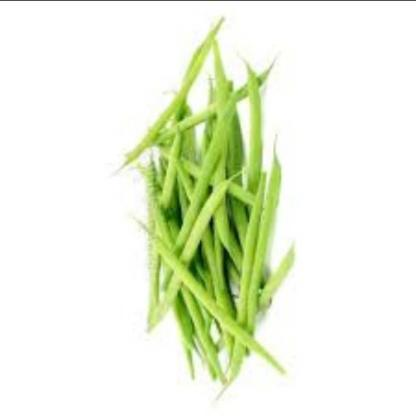fasol: (96, 14, 295, 416)
